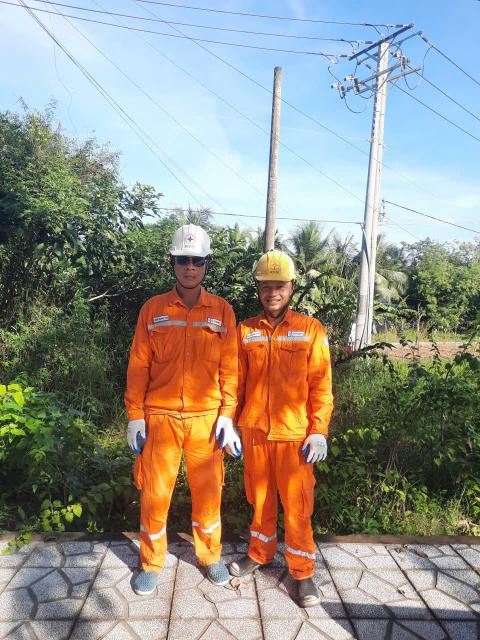gloves: (119, 417, 158, 468), (299, 429, 333, 471), (199, 408, 229, 450), (218, 424, 249, 464)
helmet: (168, 215, 221, 266), (243, 245, 301, 288)
shoes: (278, 567, 340, 609), (124, 558, 167, 599), (227, 548, 280, 579), (196, 557, 233, 588)
